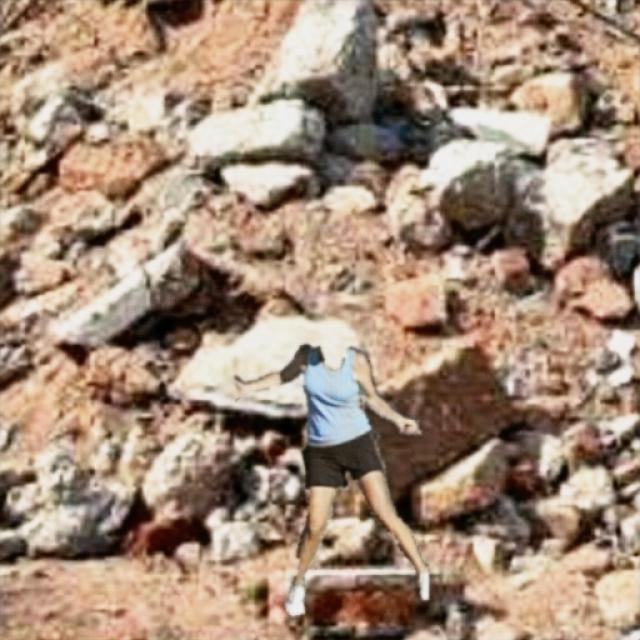Person in Rubble: (235, 344, 428, 615)
